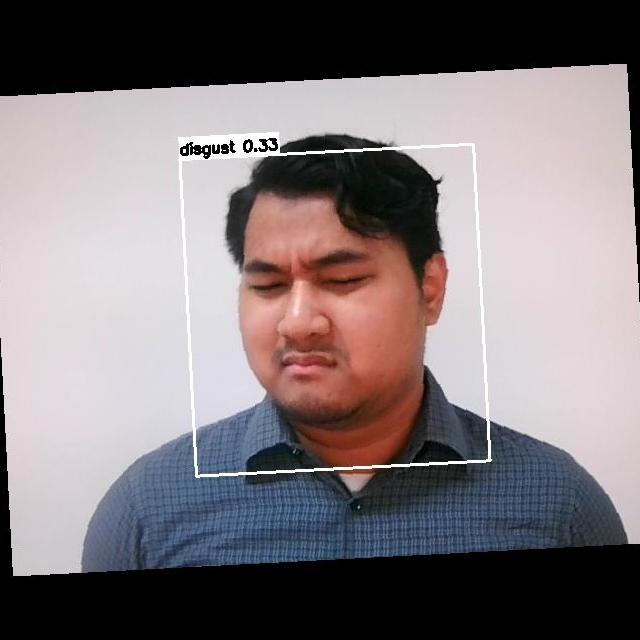Disgust: (224, 224, 425, 409)
